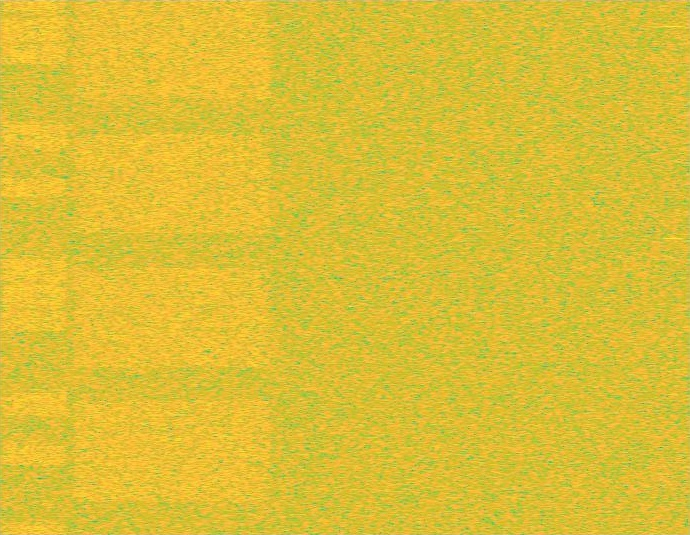5G: (69, 0, 276, 534)
LTE: (0, 0, 69, 534)
Radar: (666, 0, 680, 534)
